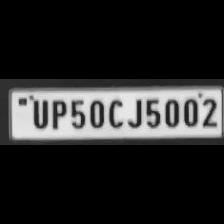0: (86, 96, 104, 130), (180, 94, 198, 128), (162, 96, 180, 128)
2: (199, 94, 219, 128)
5: (67, 96, 87, 130), (141, 96, 161, 128)
C: (105, 95, 125, 129)
J: (125, 95, 143, 129)
P: (47, 97, 66, 130)
U: (28, 97, 50, 129)
